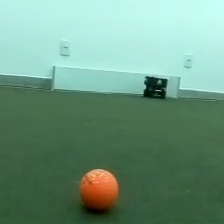ball: (76, 166, 122, 215)
goal: (48, 63, 181, 100)
robot: (142, 74, 169, 100)
